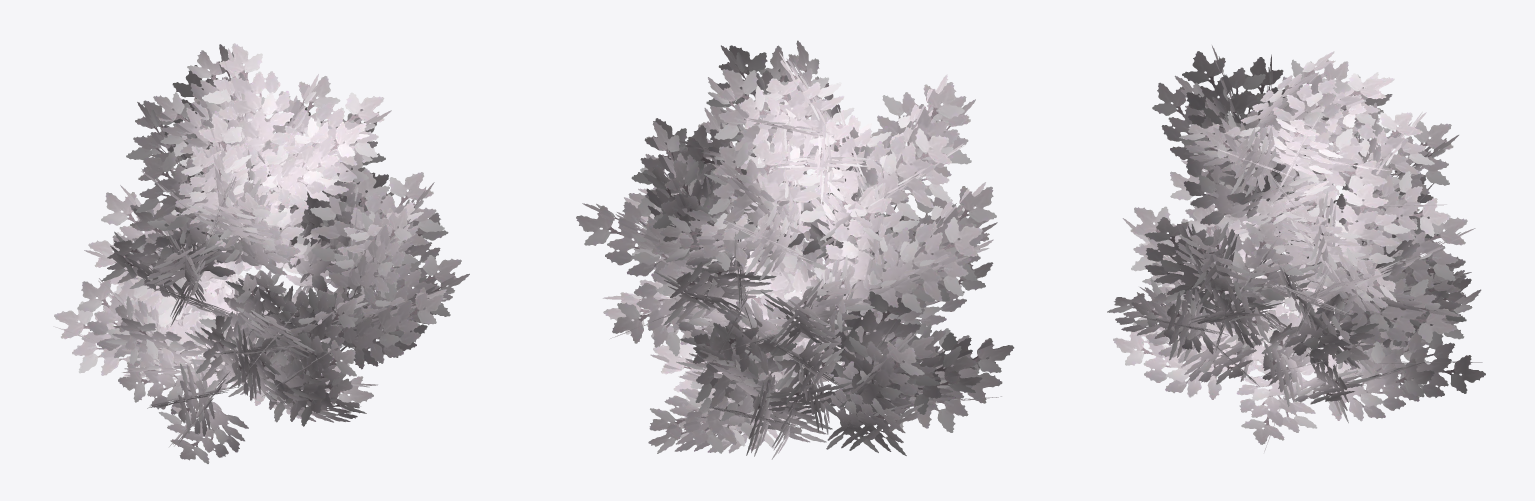
3 views of the same model, side by side, from view 1: azimuth 30°, elevation 25°; view 2: azimuth 150°, elevation 25°; view 3: azimuth 270°, elevation 25° (orthographic). The views are drawn at different scales.
Visible parts, largest first — view 1: body0_model0_lod0_mesh0; view 2: body0_model0_lod0_mesh0; view 3: body0_model0_lod0_mesh0.
Part boxes in pixels (x1,y1,x2,y2): body0_model0_lod0_mesh0: [53, 43, 469, 463]; body0_model0_lod0_mesh0: [576, 40, 1014, 459]; body0_model0_lod0_mesh0: [1107, 45, 1485, 452].
Bounding box in the file's own units: 13.93 × 13.74 × 13.67.
Materials: 1 (1 with a texture image).
